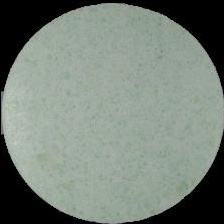54868-0053: (0, 0, 224, 224)
